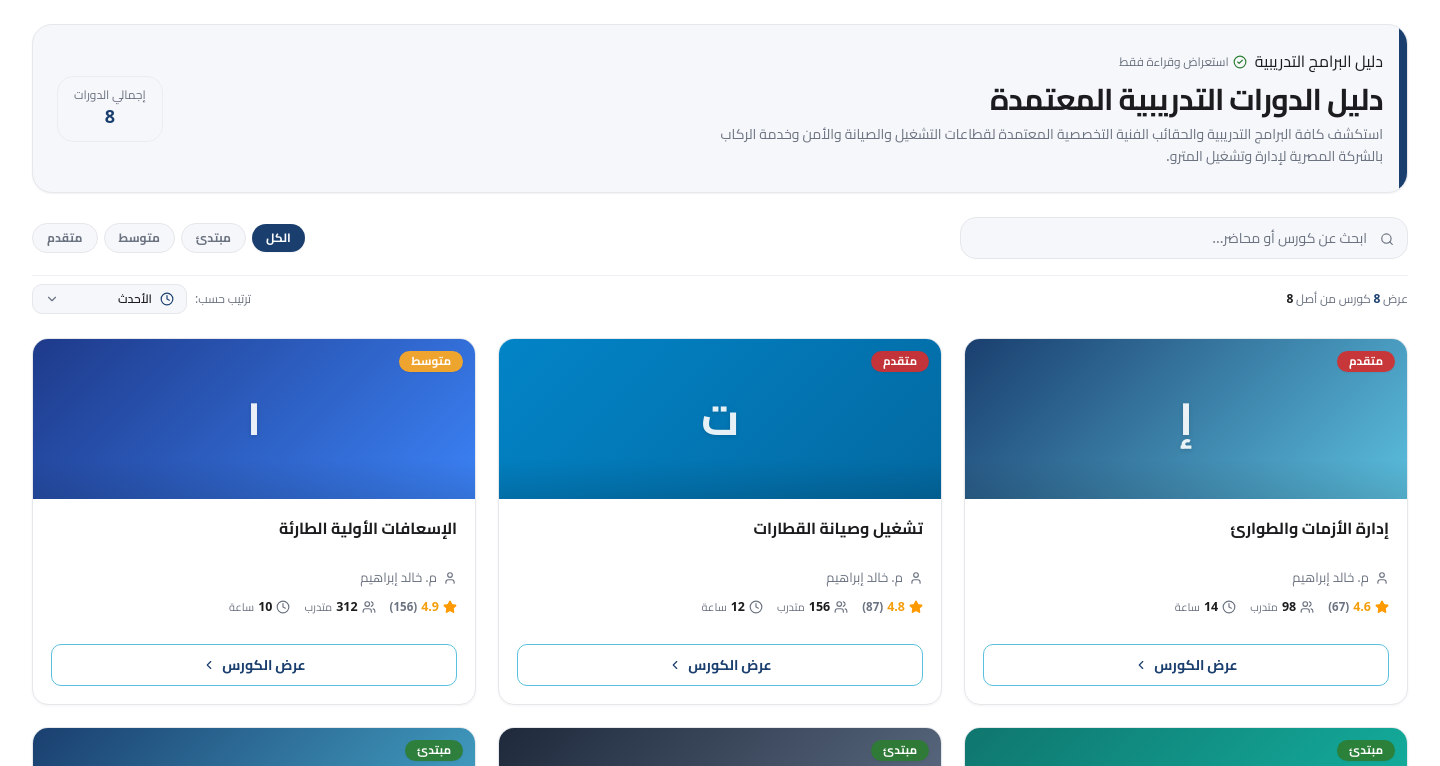
Increment 4: Course Catalog & Course Details (Read-Only) Verification › Course Catalog Page (/courses) › sorts courses using the accessible sort dropdown with semantic design-system icons
# Click to open dropdown
Click the dropdown named "ترتيب حسب": (110, 299) [32, 284, 187, 314]
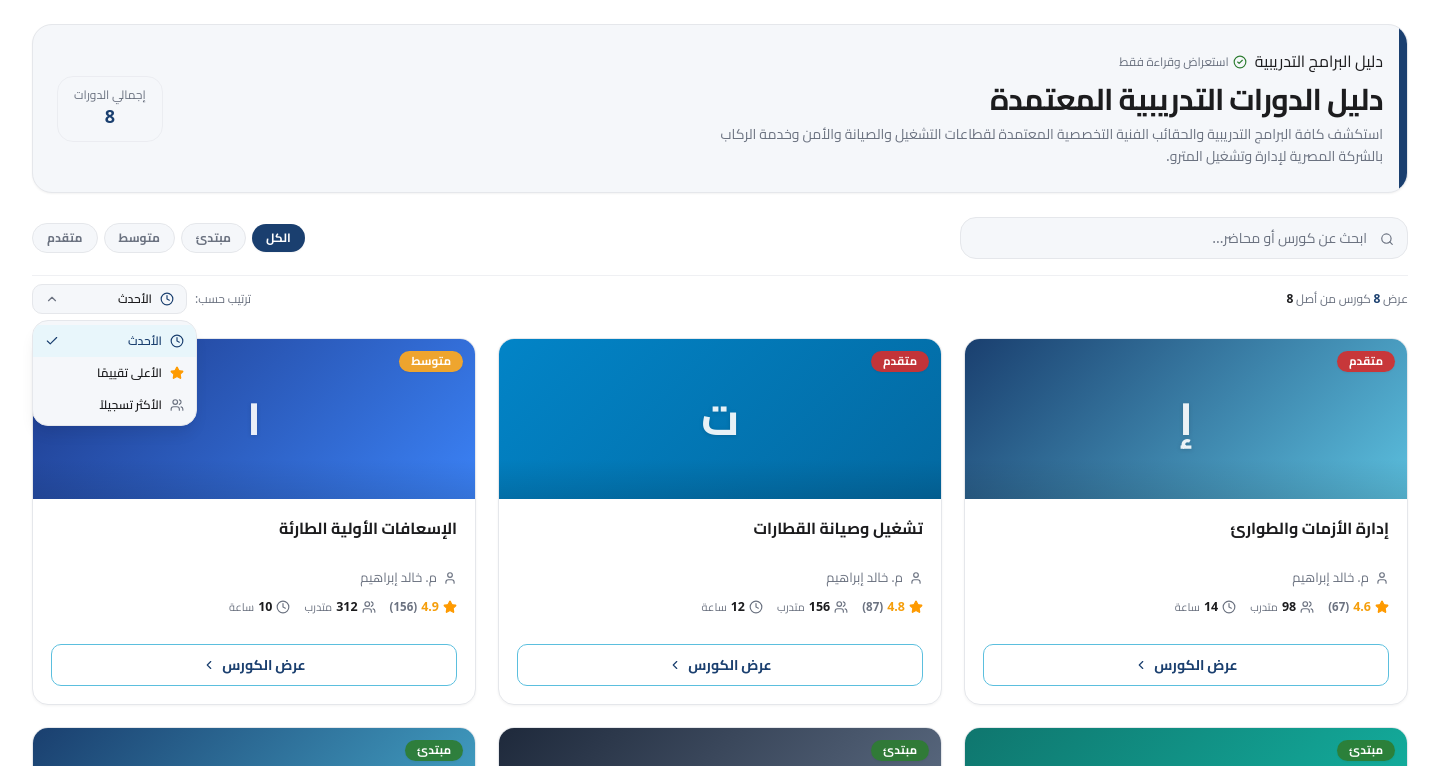
Check: the dropdown named "ترتيب حسب" is expanded, box [32, 284, 187, 314]
Check: the list is shown, box [32, 320, 197, 426]
Check: the option "الأحدث" is shown, box [33, 325, 196, 357]
# Click "الأعلى تقييمًا" option
Click the option "الأعلى تقييمًا": (141, 373) [97, 361, 184, 384]
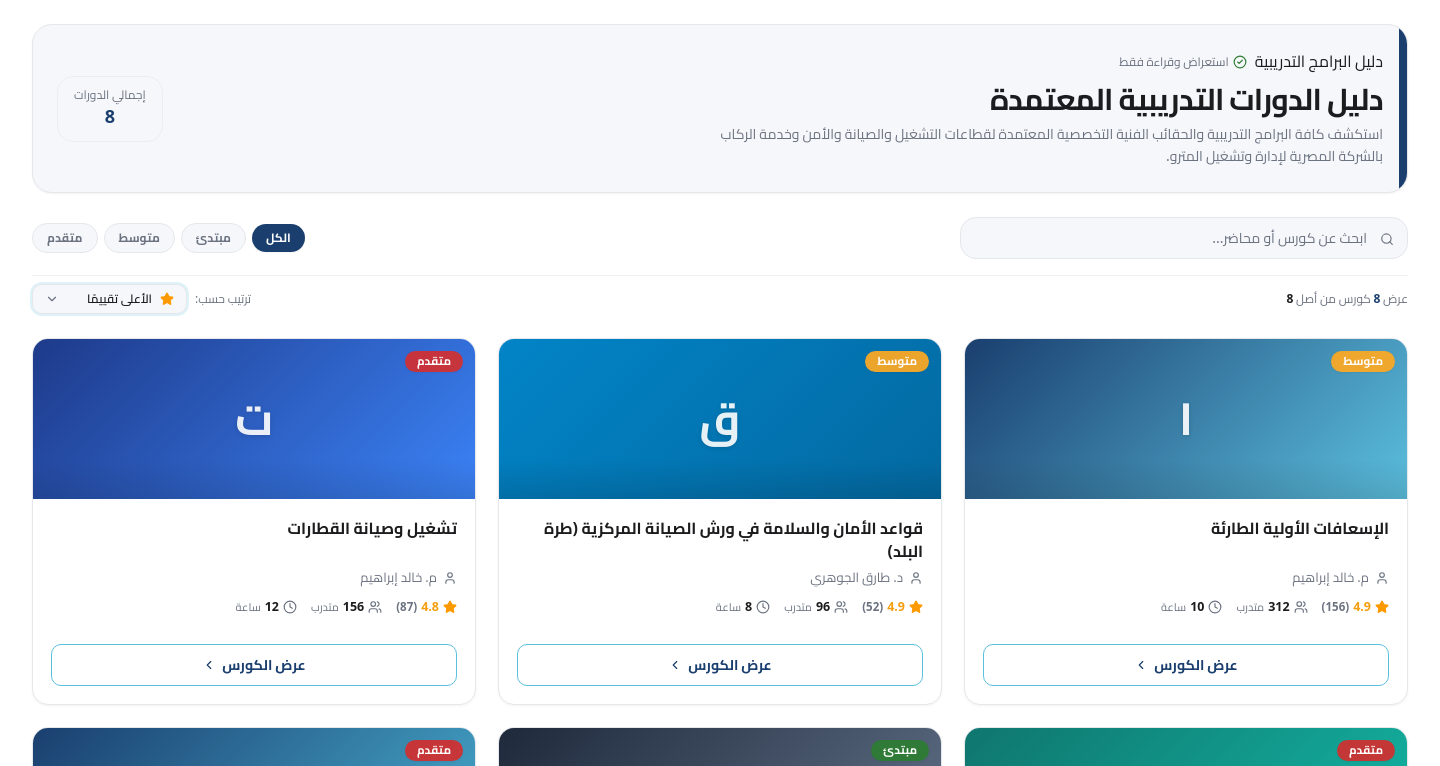
Check: the dropdown named "ترتيب حسب" is collapsed, box [32, 284, 187, 314]
Check: the dropdown named "ترتيب حسب" reads "الأعلى تقييمًا", box [32, 284, 187, 314]
